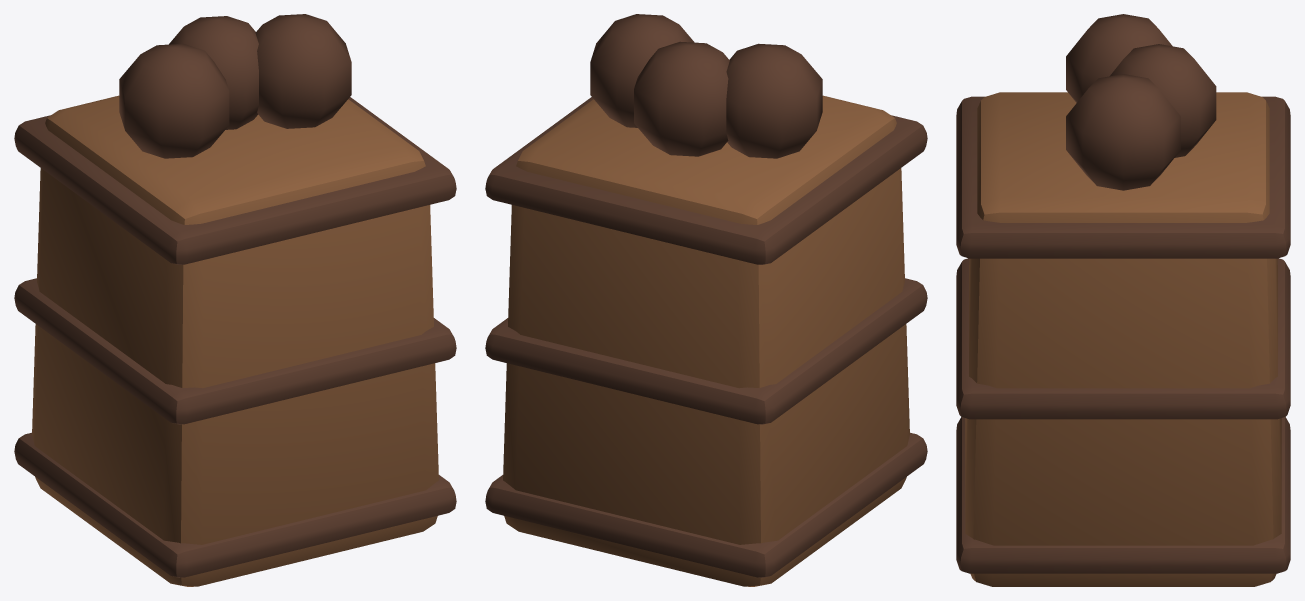
The model's file is W3_FruitCrate_C.fbx.
The picture shows the model from 3 angles, left to right: view 1: azimuth 30°, elevation 25°; view 2: azimuth 150°, elevation 25°; view 3: azimuth 270°, elevation 25°; orthographic projection.
Parts seen in each view (by area): view 1: W3_FruitCrate_C; view 2: W3_FruitCrate_C; view 3: W3_FruitCrate_C.
Part boxes in pixels (box(x1,y1,x2,y2)): W3_FruitCrate_C: box(14, 14, 456, 586); W3_FruitCrate_C: box(485, 14, 927, 586); W3_FruitCrate_C: box(956, 14, 1290, 586).
Size of the model in its own units: 0.9424 by 1.5 by 0.9424.
